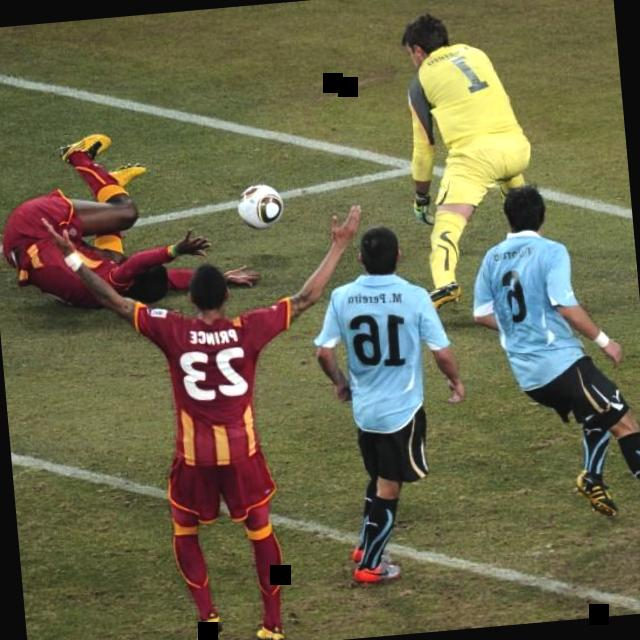Fall-Detected: (0, 122, 236, 332)
